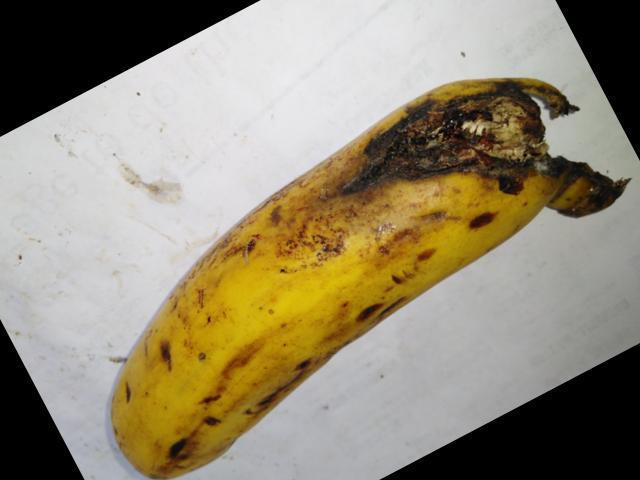ripe: (88, 166, 350, 479)
rotten: (296, 58, 628, 278)
